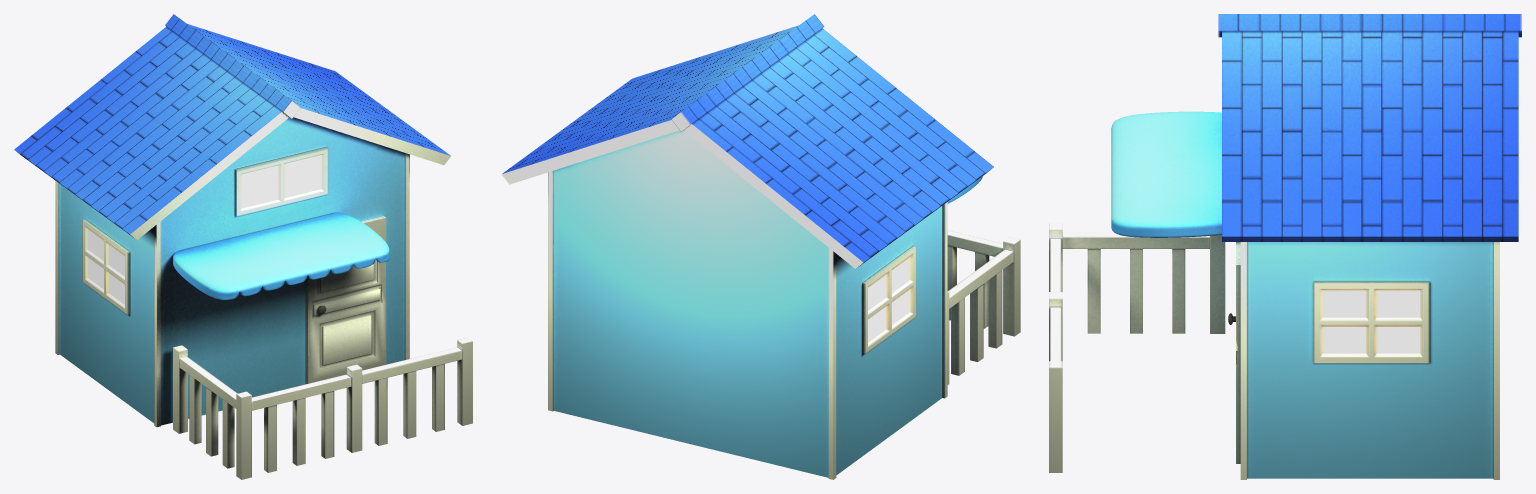
File: beachHouse.glb
3 views of the same model, side by side, from view 1: azimuth 30°, elevation 25°; view 2: azimuth 150°, elevation 25°; view 3: azimuth 270°, elevation 25° (orthographic). The views are drawn at different scales.
Parts seen in each view (by area): view 1: beachHouse; view 2: beachHouse; view 3: beachHouse.
Boxes of the visible parts, x1,y1,x2,y2 form: beachHouse: (14, 14, 472, 479); beachHouse: (501, 14, 1020, 479); beachHouse: (1049, 14, 1521, 479).
Size of the model in its own units: 4.79 by 4.31 by 4.77.
9 materials, 9 textured.
